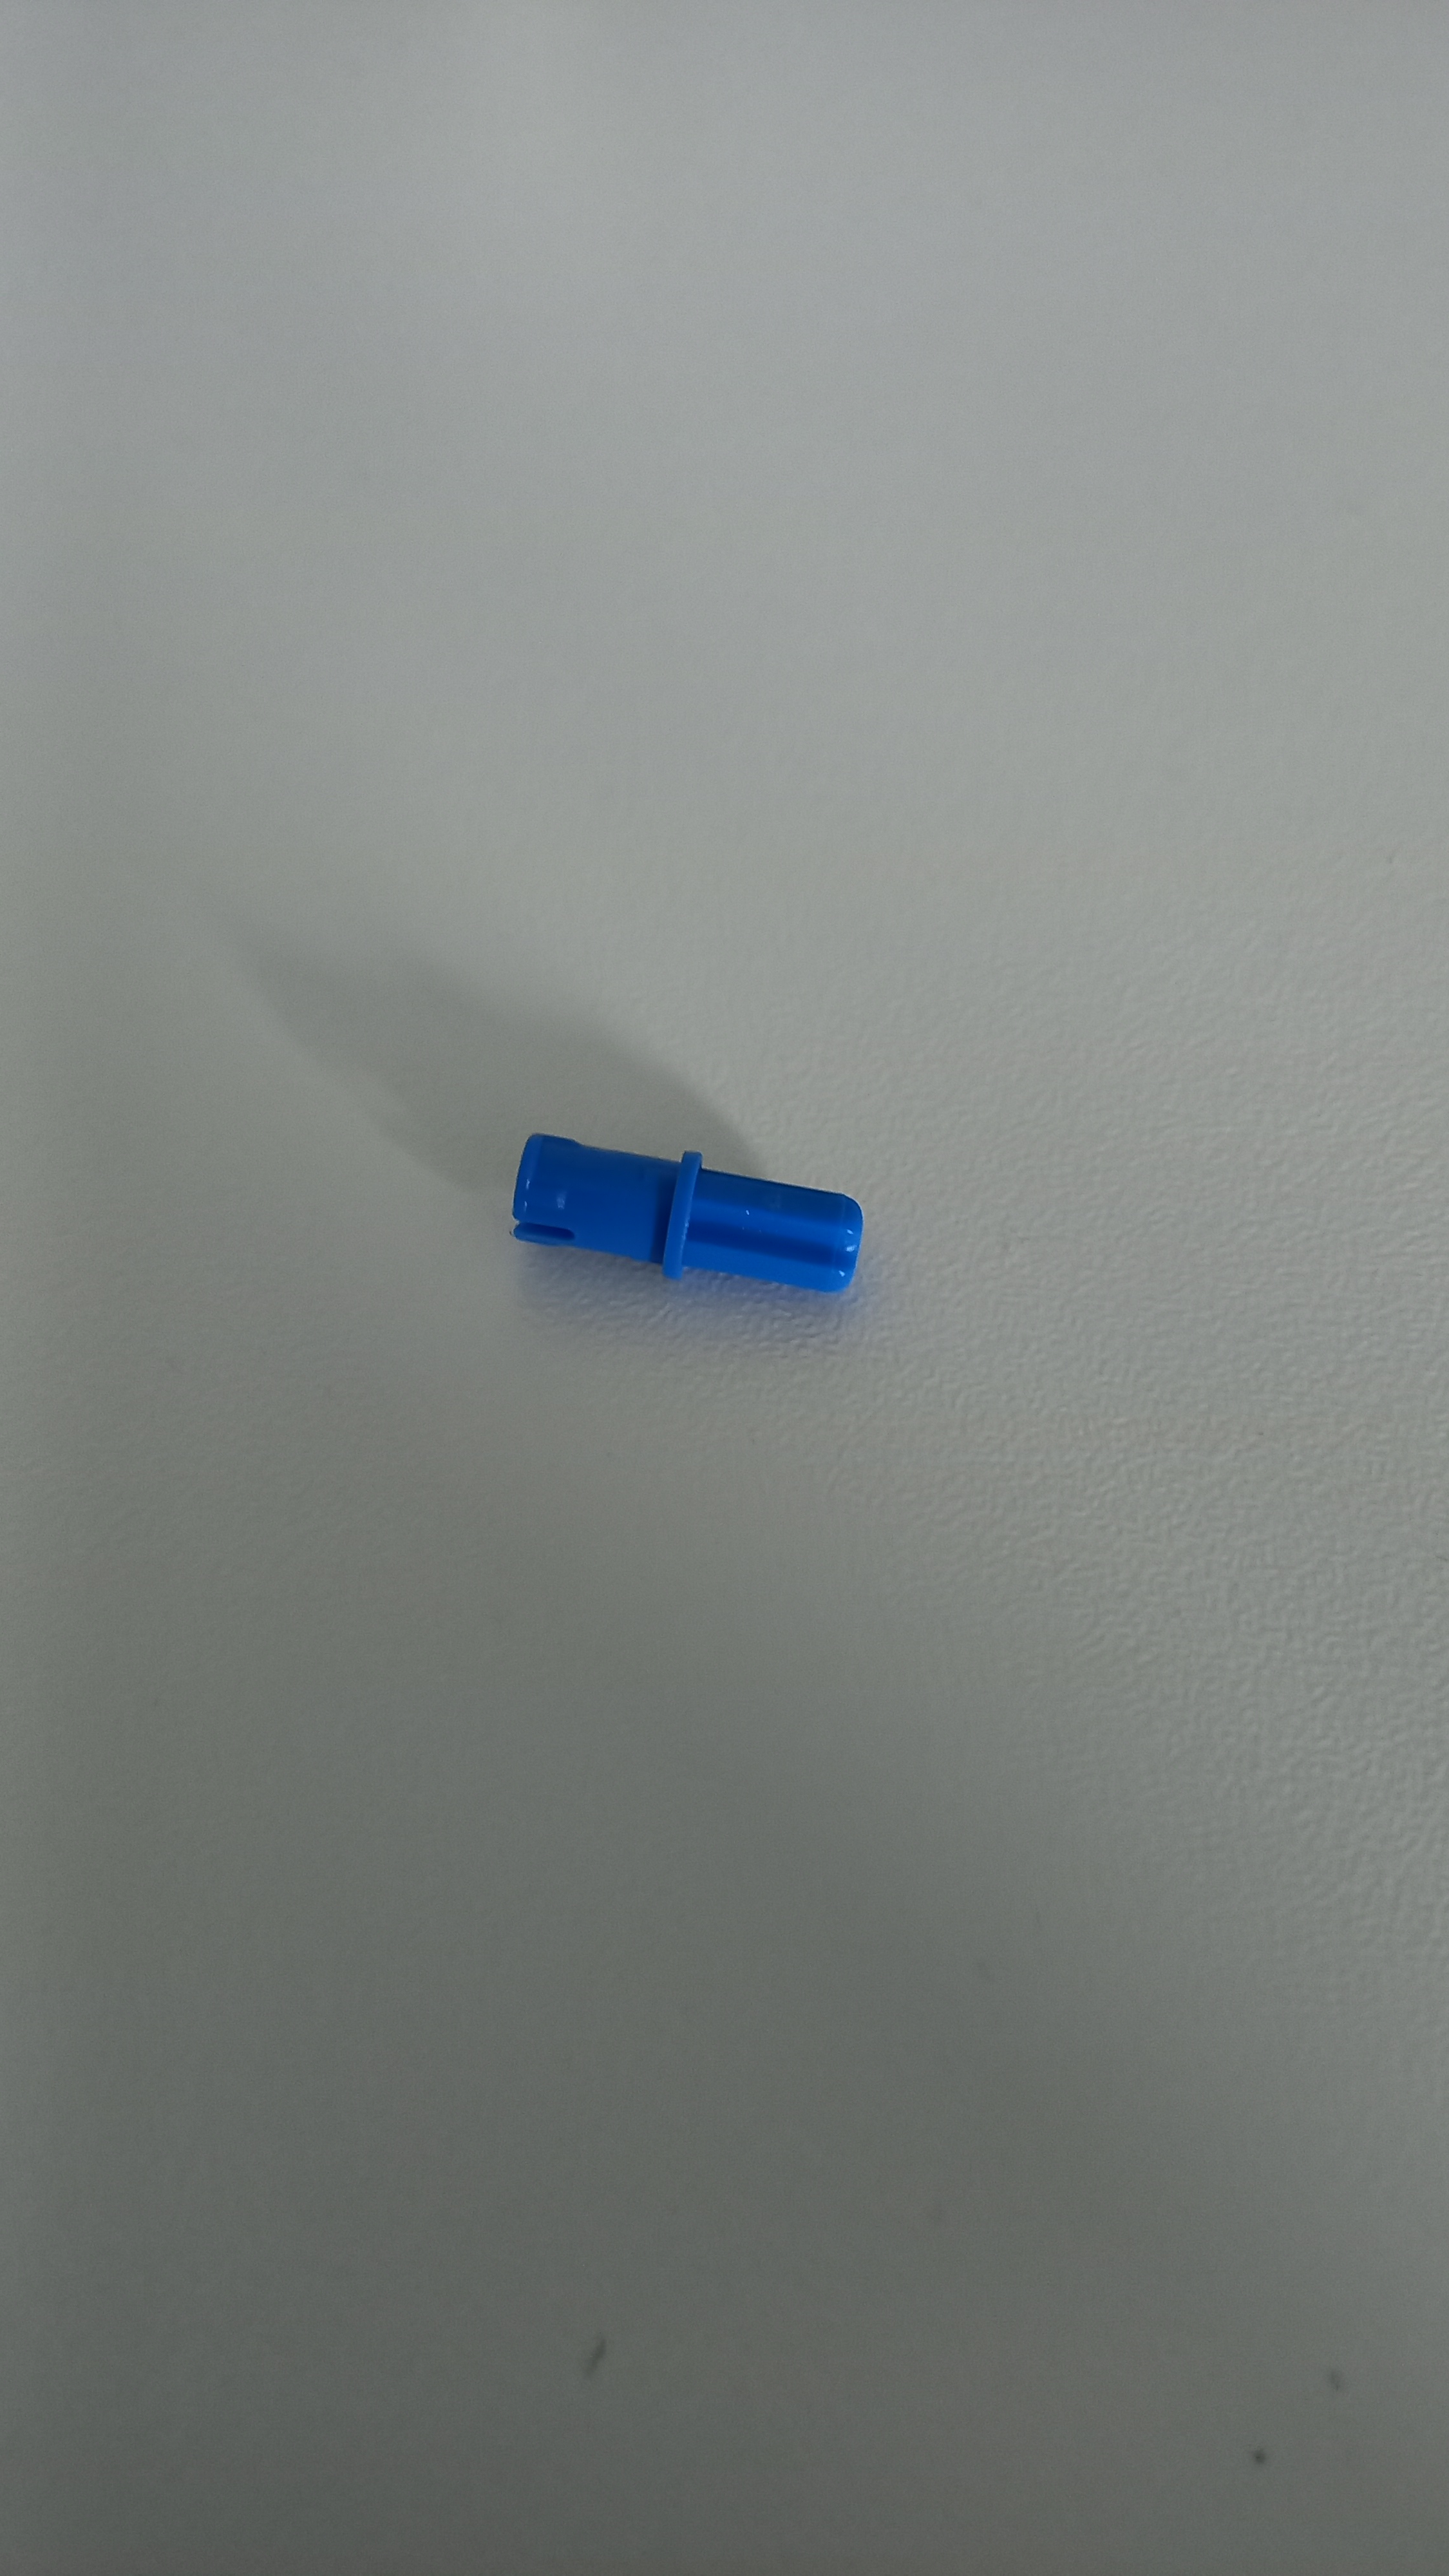Blau: (492, 1108, 888, 1322)
